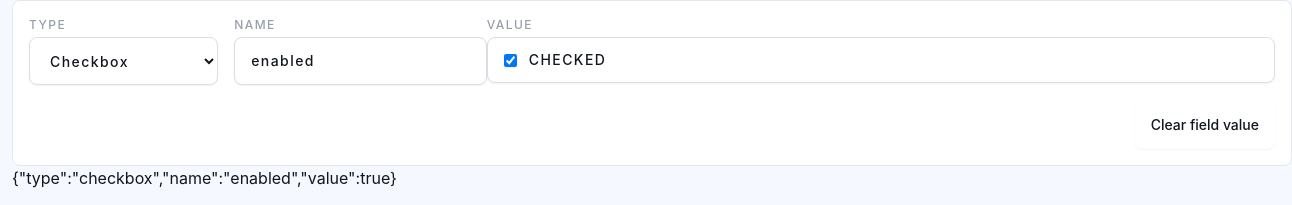
Test case: InputConstructor › renders a checkbox editor and clears its value
Expected: the checkbox is checked, left=504, top=54, right=517, bottom=66
Click the button "Clear field value" at (1205, 125), box left=1135, top=101, right=1275, bottom=149
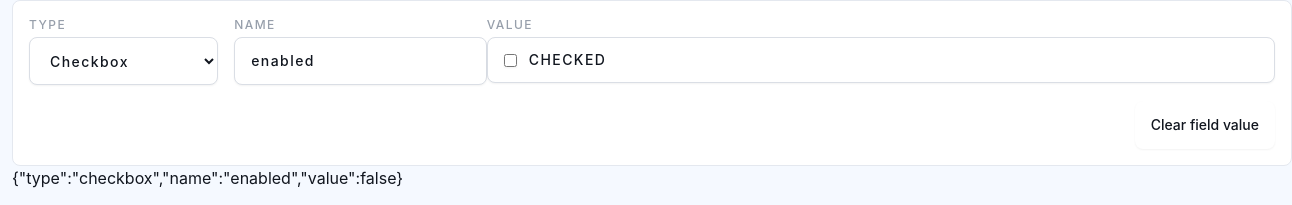
Expected: the checkbox is not checked, left=504, top=54, right=517, bottom=66
Expected: the text with test id "field-state" shows "\"value\":false", left=12, top=168, right=403, bottom=188
